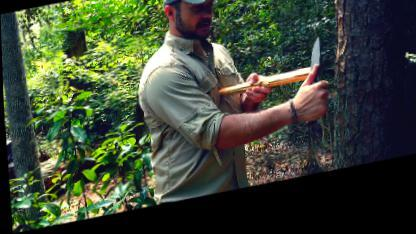knife: (298, 42, 331, 121)
